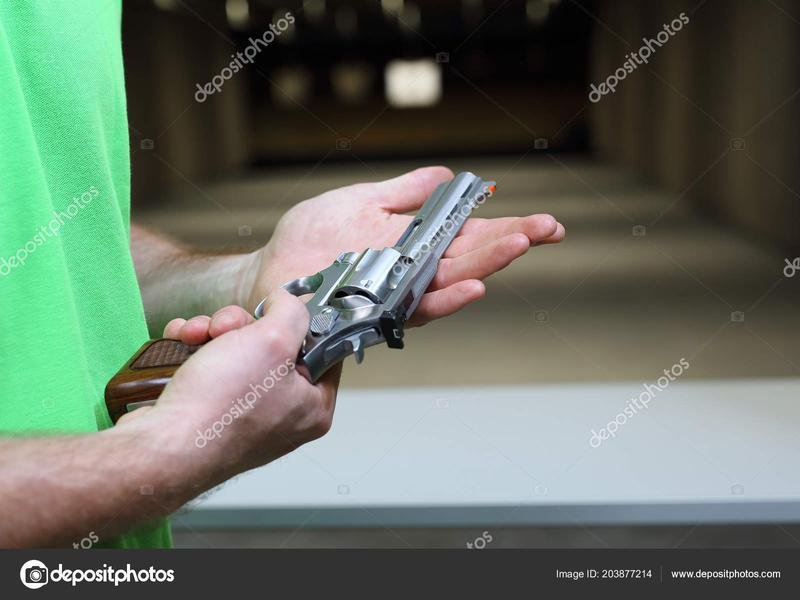Revolver: (141, 154, 505, 379)
